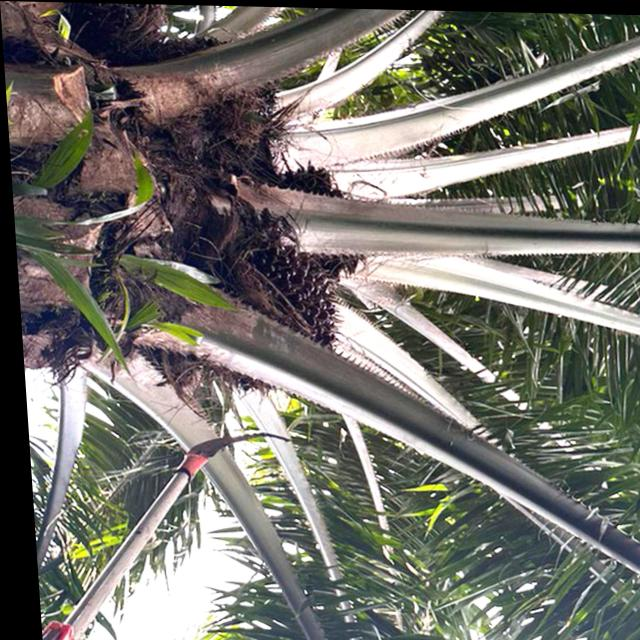unripe: (162, 207, 350, 402)
